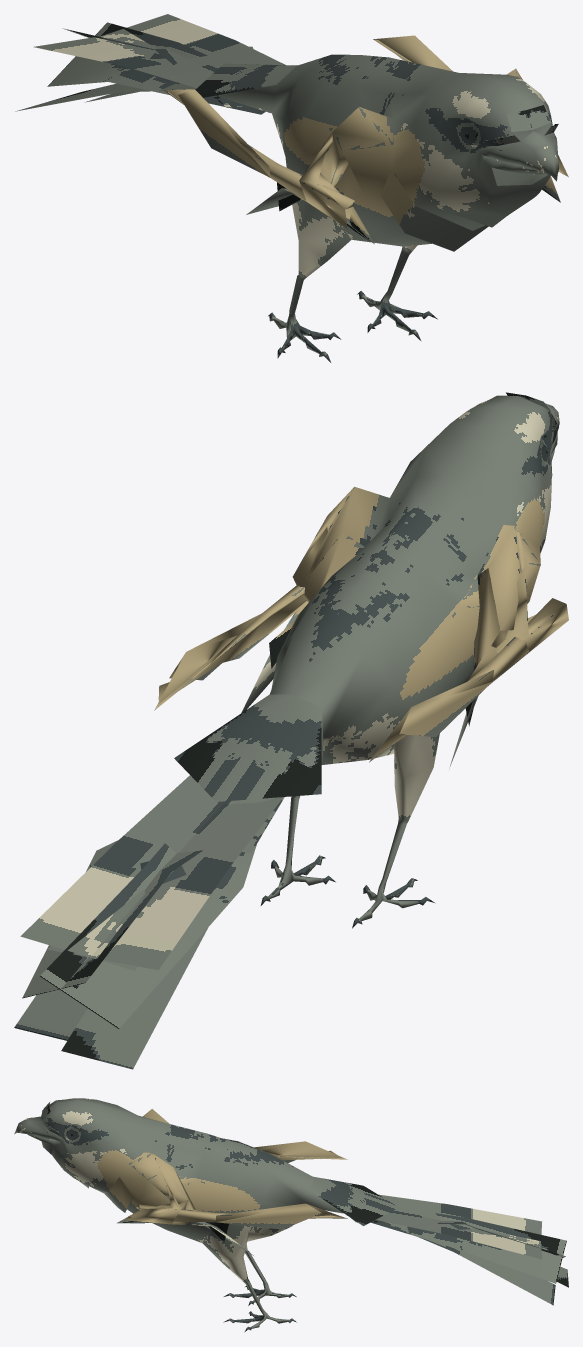
File: bird-wing-bars.glb
The picture shows the model from 3 angles, top to bottom: view 1: azimuth 30°, elevation 25°; view 2: azimuth 150°, elevation 25°; view 3: azimuth 270°, elevation 25°; orthographic projection. The views are drawn at different scales.
Parts seen in each view (by area): view 1: bird-wing-bars runtime mesh; view 2: bird-wing-bars runtime mesh; view 3: bird-wing-bars runtime mesh.
Boxes of the visible parts, x1,y1,x2,y2 form: bird-wing-bars runtime mesh: (15, 14, 568, 362); bird-wing-bars runtime mesh: (14, 392, 568, 1069); bird-wing-bars runtime mesh: (14, 1098, 568, 1332).
Size of the model in its own units: 0.153 by 0.23 by 0.5526.
Materials: 1 (1 with a texture image).
